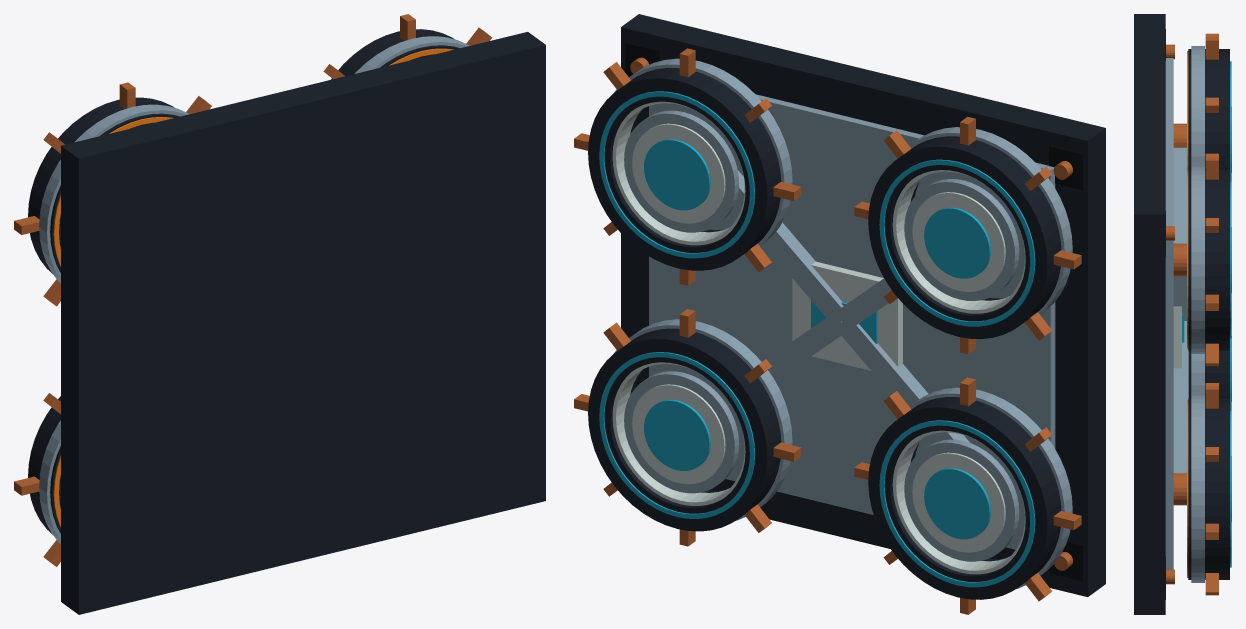
The picture shows the model from 3 angles, left to right: view 1: azimuth 30°, elevation 25°; view 2: azimuth 150°, elevation 25°; view 3: azimuth 270°, elevation 25°; orthographic projection. The views are drawn at different scales.
Parts seen in each view (by area): view 1: chassis_mount_plate, pod_01_housing, pod_01_outer_bezel, pod_00_housing, pod_03_housing, pod_00_outer_bezel, pod_03_outer_bezel; view 2: chassis_inset_armor, chassis_mount_plate, pod_02_housing, pod_00_housing, pod_01_housing, pod_03_housing, central_controller, pod_00_pulse_core, pod_03_pulse_core, pod_01_pulse_core, pod_02_pulse_core, pod_01_pulse_ion (+25 smaller); view 3: chassis_mount_plate, pod_02_housing, pod_03_housing, chassis_inset_armor, pod_01_housing, pod_02_outer_bezel, pod_03_outer_bezel, pod_02_radial_brace, pod_01_outer_bezel, pod_01_radial_brace, pod_00_housing, pod_00_outer_bezel (+21 smaller).
Part boxes in pixels (x1=…): chassis_mount_plate: x1=61, y1=32, x2=545, y2=614; pod_01_housing: x1=28, y1=97, x2=179, y2=273; pod_01_outer_bezel: x1=39, y1=104, x2=189, y2=283; pod_00_housing: x1=28, y1=396, x2=60, y2=534; pod_03_housing: x1=331, y1=29, x2=459, y2=79; pod_00_outer_bezel: x1=39, y1=420, x2=60, y2=543; pod_03_outer_bezel: x1=354, y1=36, x2=469, y2=73; chassis_inset_armor: x1=649, y1=94, x2=1055, y2=549; chassis_mount_plate: x1=621, y1=14, x2=1105, y2=596; pod_02_housing: x1=588, y1=328, x2=781, y2=531; pod_00_housing: x1=868, y1=397, x2=1061, y2=599; pod_01_housing: x1=868, y1=136, x2=1061, y2=339; pod_03_housing: x1=588, y1=68, x2=781, y2=270; central_controller: x1=792, y1=261, x2=902, y2=370; pod_00_pulse_core: x1=904, y1=439, x2=1019, y2=561; pod_03_pulse_core: x1=624, y1=110, x2=739, y2=232; pod_01_pulse_core: x1=904, y1=179, x2=1019, y2=300; pod_02_pulse_core: x1=624, y1=371, x2=739, y2=493; pod_01_pulse_ion: x1=924, y1=207, x2=990, y2=278; chassis_mount_plate: x1=1134, y1=14, x2=1165, y2=614; pod_02_housing: x1=1188, y1=398, x2=1229, y2=579; pod_03_housing: x1=1188, y1=169, x2=1229, y2=350; chassis_inset_armor: x1=1165, y1=58, x2=1173, y2=569; pod_01_housing: x1=1188, y1=49, x2=1229, y2=169; pod_02_outer_bezel: x1=1191, y1=395, x2=1204, y2=582; pod_03_outer_bezel: x1=1191, y1=166, x2=1204, y2=353; pod_02_radial_brace: x1=1173, y1=321, x2=1188, y2=473; pod_01_outer_bezel: x1=1191, y1=46, x2=1204, y2=165; pod_01_radial_brace: x1=1173, y1=147, x2=1186, y2=243; pod_00_housing: x1=1188, y1=351, x2=1229, y2=398; pod_00_outer_bezel: x1=1191, y1=354, x2=1204, y2=394.
Bounding box in the file's own units: 1.61 × 1.51 × 0.31.
